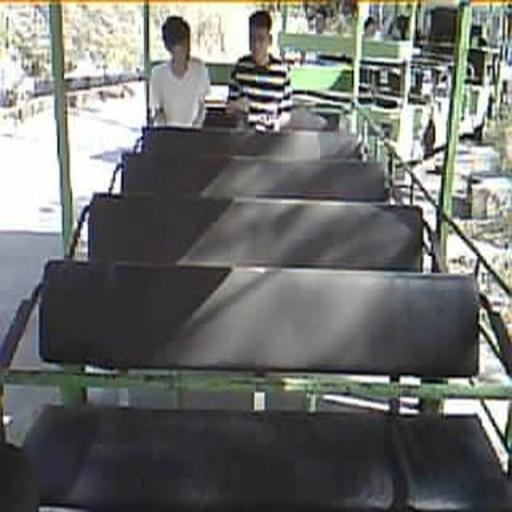persona: (226, 10, 295, 133), (148, 15, 210, 129)
